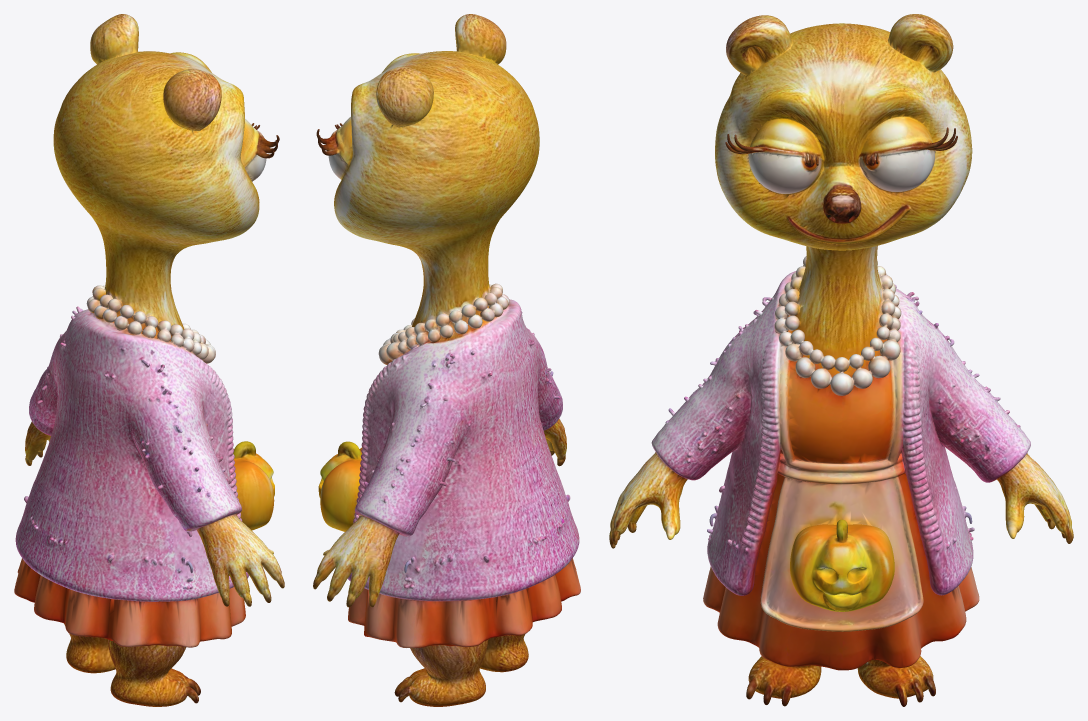
Rendered from mama.glb.
The picture shows the model from 3 angles, left to right: view 1: azimuth 30°, elevation 25°; view 2: azimuth 150°, elevation 25°; view 3: azimuth 270°, elevation 25°; orthographic projection. The views are drawn at different scales.
Visible parts, largest first — view 1: tripo_node_5d807e36-e217-4998-b45c-27b890453732; view 2: tripo_node_5d807e36-e217-4998-b45c-27b890453732; view 3: tripo_node_5d807e36-e217-4998-b45c-27b890453732.
Boxes of the visible parts, x1,y1,x2,y2 form: tripo_node_5d807e36-e217-4998-b45c-27b890453732: (14,14,284,706); tripo_node_5d807e36-e217-4998-b45c-27b890453732: (313,14,580,706); tripo_node_5d807e36-e217-4998-b45c-27b890453732: (609,14,1073,706).
Size of the model in its own units: 0.3943 by 1 by 0.6133.
1 material, 1 textured.
